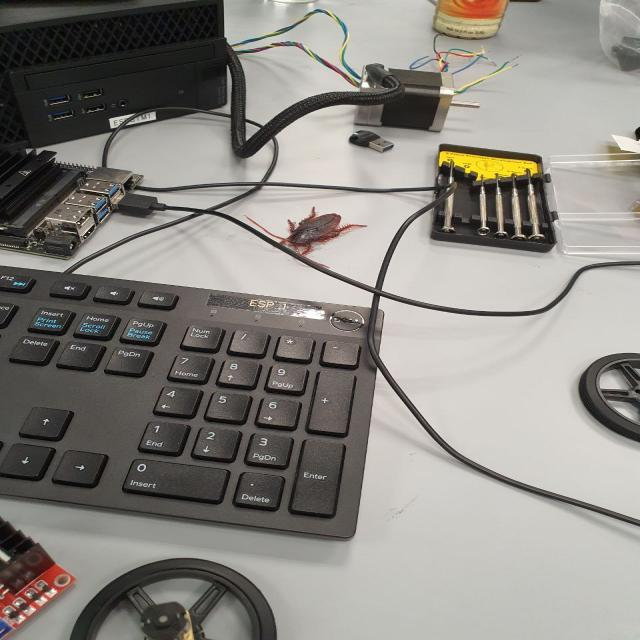Cockroach: (244, 199, 370, 258)
